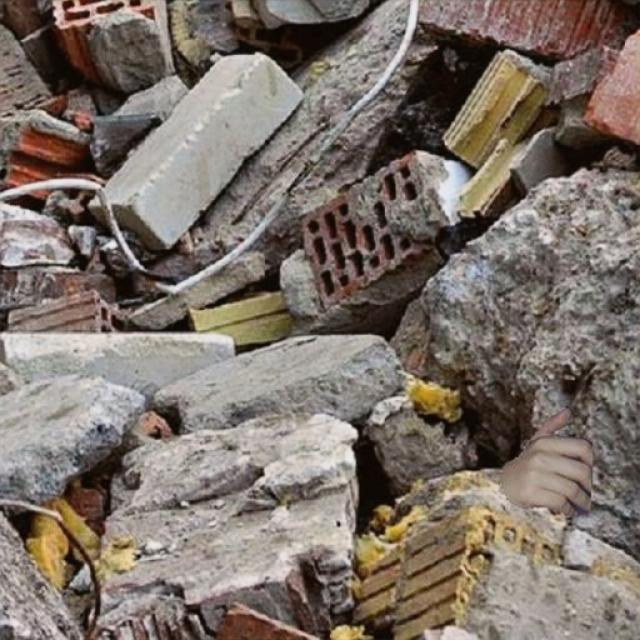Person in Rubble: (500, 406, 591, 516)
